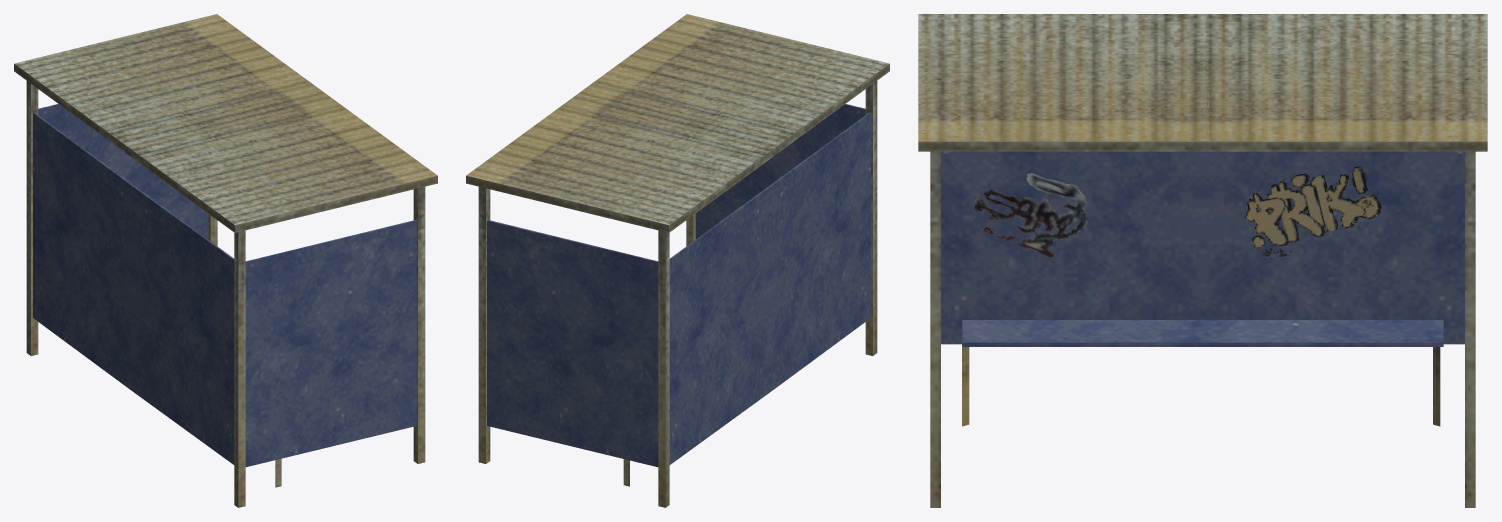
The model's file is Urban_BusstopGraffiti_Model.fbx.
3 views of the same model, side by side, from view 1: azimuth 30°, elevation 25°; view 2: azimuth 150°, elevation 25°; view 3: azimuth 270°, elevation 25° (orthographic). The views are drawn at different scales.
Visible parts, largest first — view 1: Urban_BusstopGraffiti_Mesh; view 2: Urban_BusstopGraffiti_Mesh; view 3: Urban_BusstopGraffiti_Mesh.
Part boxes in pixels (box(x1,y1,x2,y2)): Urban_BusstopGraffiti_Mesh: box(14, 14, 437, 507); Urban_BusstopGraffiti_Mesh: box(466, 14, 889, 507); Urban_BusstopGraffiti_Mesh: box(918, 14, 1487, 507).
Size of the model in its own units: 2.26 by 3.08 by 4.26.
